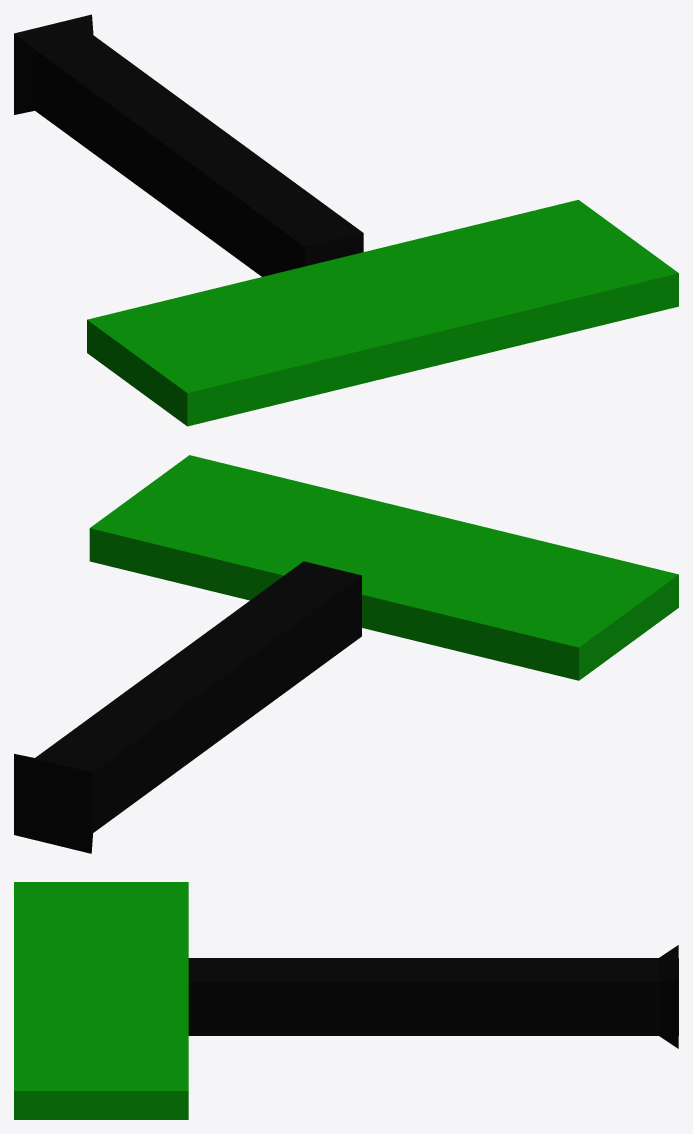
Rendered from station.obj.
3 renders of one model, top to bottom at view 1: azimuth 30°, elevation 25°; view 2: azimuth 150°, elevation 25°; view 3: azimuth 270°, elevation 25°, orthographic. The views are drawn at different scales.
Visible parts, largest first — view 1: Object.3, Object.1, Object.2; view 2: Object.3, Object.1, Object.2; view 3: Object.3, Object.1, Object.2.
Part boxes in pixels (box(x1,y1,x2,y2)): Object.3: box(87, 200, 678, 426); Object.1: box(35, 35, 363, 276); Object.2: box(14, 14, 93, 114); Object.3: box(89, 455, 678, 680); Object.1: box(23, 561, 361, 841); Object.2: box(14, 753, 93, 853); Object.3: box(14, 882, 188, 1119); Object.1: box(188, 958, 678, 1035); Object.2: box(659, 945, 678, 1048).
Size of the model in its own units: 252 by 40 by 339.
